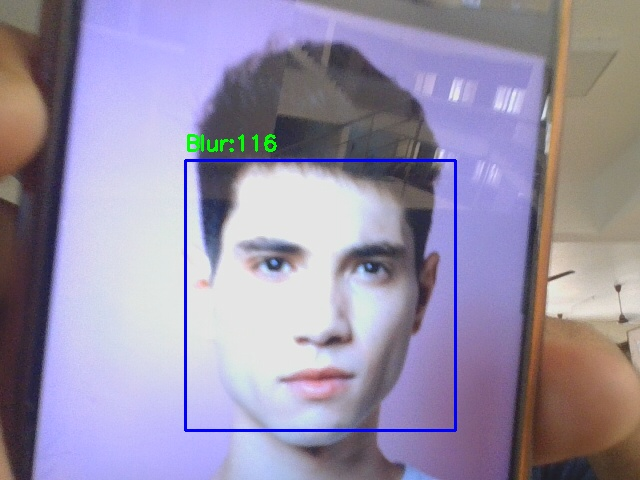fake: (185, 160, 455, 430)
